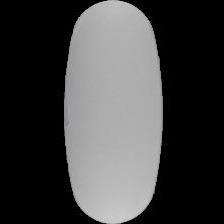60429-081: (0, 0, 224, 224)
